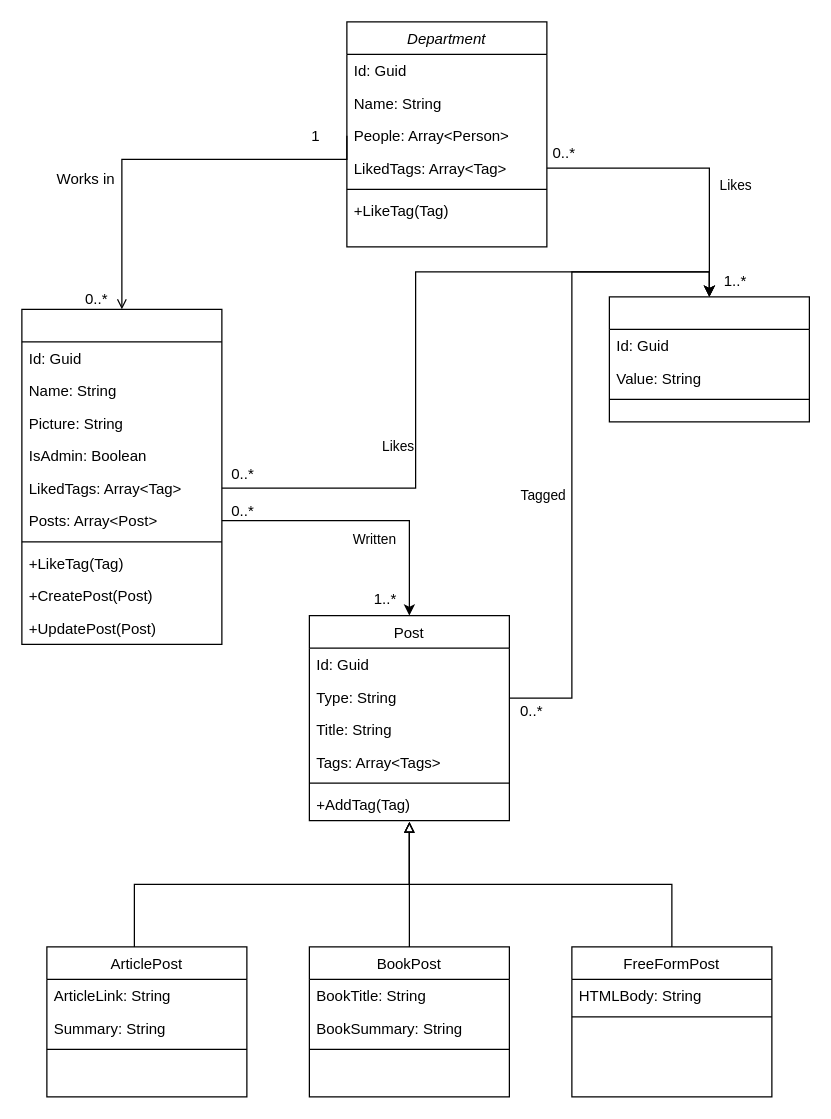
This 831x1119 diagram has some shape labels left out. The box of each missing label's shape, as (x1, y1, x2, y2) in pixels:
Person: (21, 308, 222, 644)
Tag: (608, 296, 809, 422)
